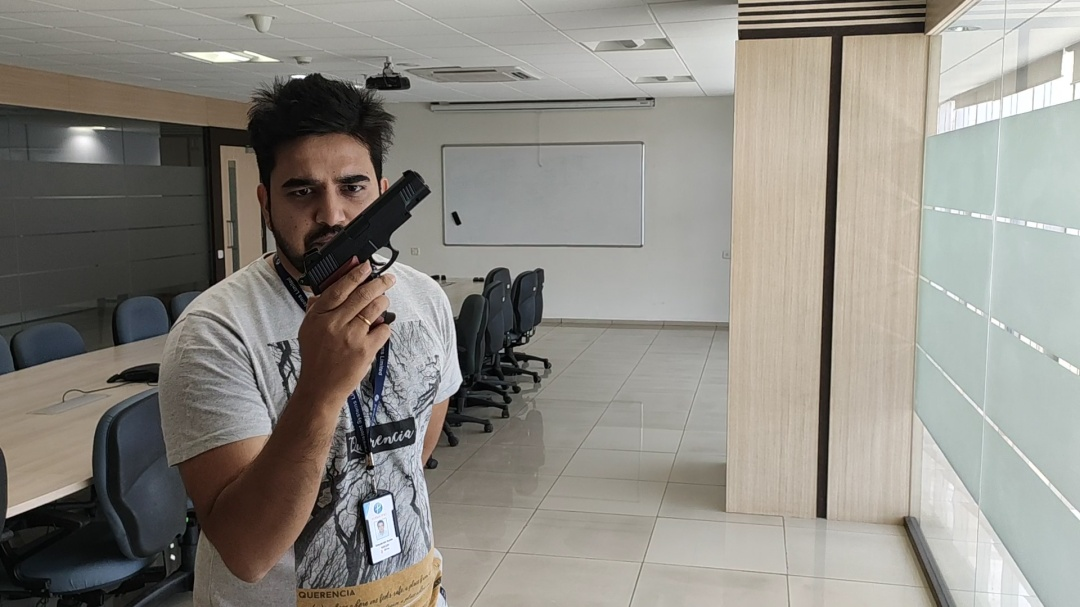gun: (305, 163, 433, 293)
